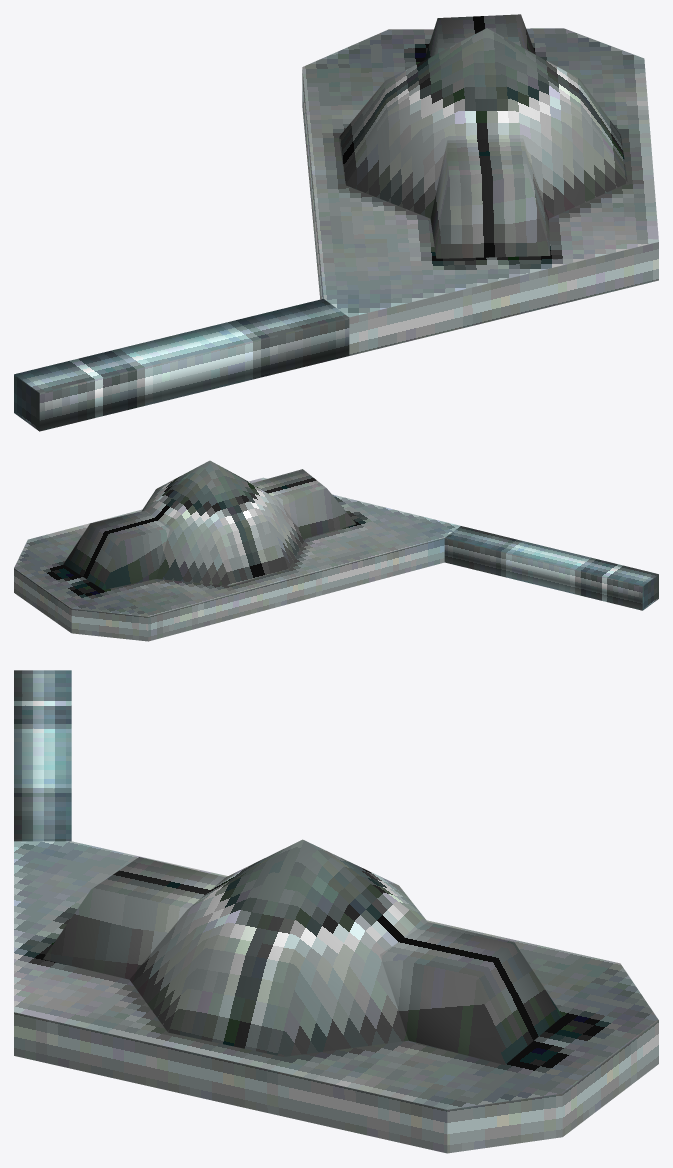
The picture shows the model from 3 angles, top to bottom: view 1: azimuth 30°, elevation 25°; view 2: azimuth 150°, elevation 25°; view 3: azimuth 270°, elevation 25°; orthographic projection. The views are drawn at different scales.
Parts seen in each view (by area): view 1: polySurface8; view 2: polySurface8; view 3: polySurface8.
Boxes of the visible parts, <box> form: polySurface8: <box>14,14,658,431</box>; polySurface8: <box>14,460,658,641</box>; polySurface8: <box>14,670,658,1153</box>.
Size of the model in its own units: 10.8 by 2.2 by 6.7.
Materials: 1 (1 with a texture image).
